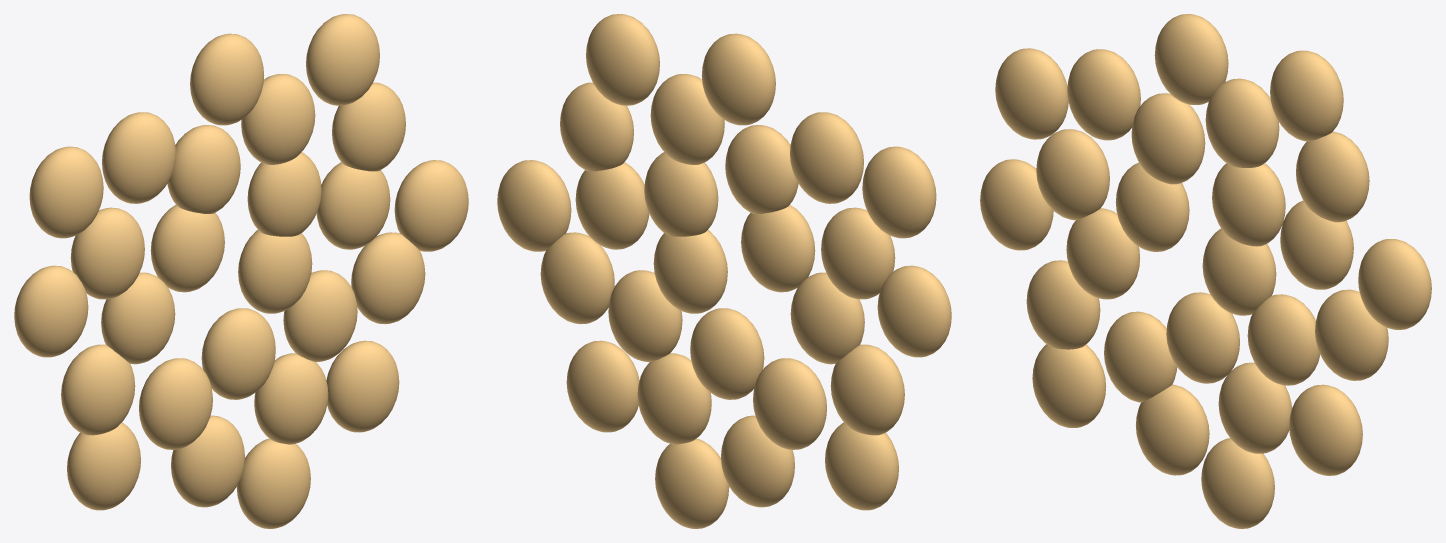
Rendered from MainFoodBowlContent_Premium.fbx.
3 renders of one model, left to right at view 1: azimuth 30°, elevation 25°; view 2: azimuth 150°, elevation 25°; view 3: azimuth 330°, elevation 25°, orthographic.
Parts seen in each view (by area): view 1: MainFoodBowlContent; view 2: MainFoodBowlContent; view 3: MainFoodBowlContent.
Part boxes in pixels (left/top/right/bottom): MainFoodBowlContent: left=14, top=14, right=468, bottom=528; MainFoodBowlContent: left=497, top=14, right=951, bottom=528; MainFoodBowlContent: left=980, top=14, right=1431, bottom=528.
Size of the model in its own units: 0.181 by 0.1935 by 0.018.
